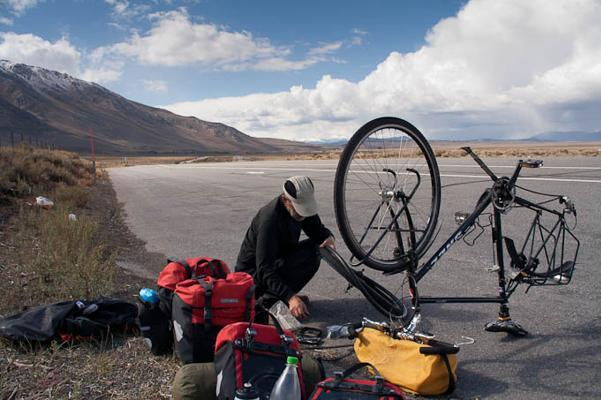person: (234, 174, 340, 324)
